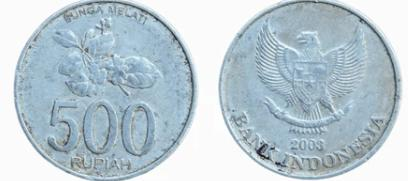coin_500_e2003: (217, 0, 406, 181), (12, 1, 200, 181)
